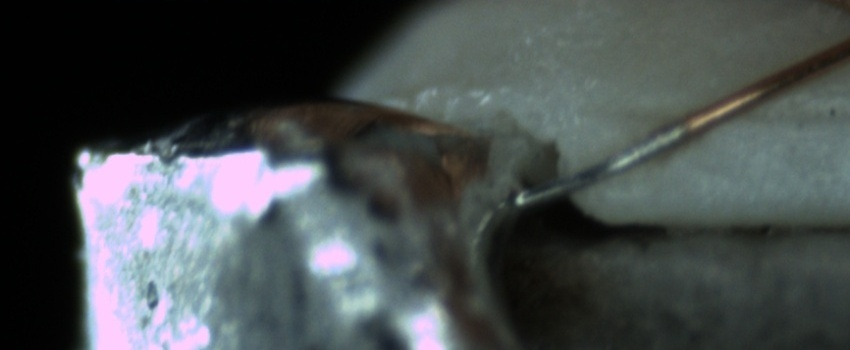DL: (600, 93, 849, 147)
TS: (519, 122, 691, 209)
